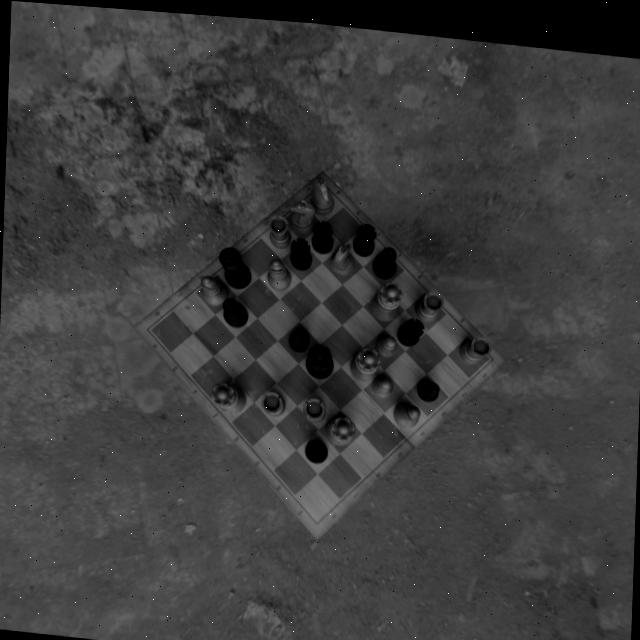chessboard: (150, 179, 490, 518)
